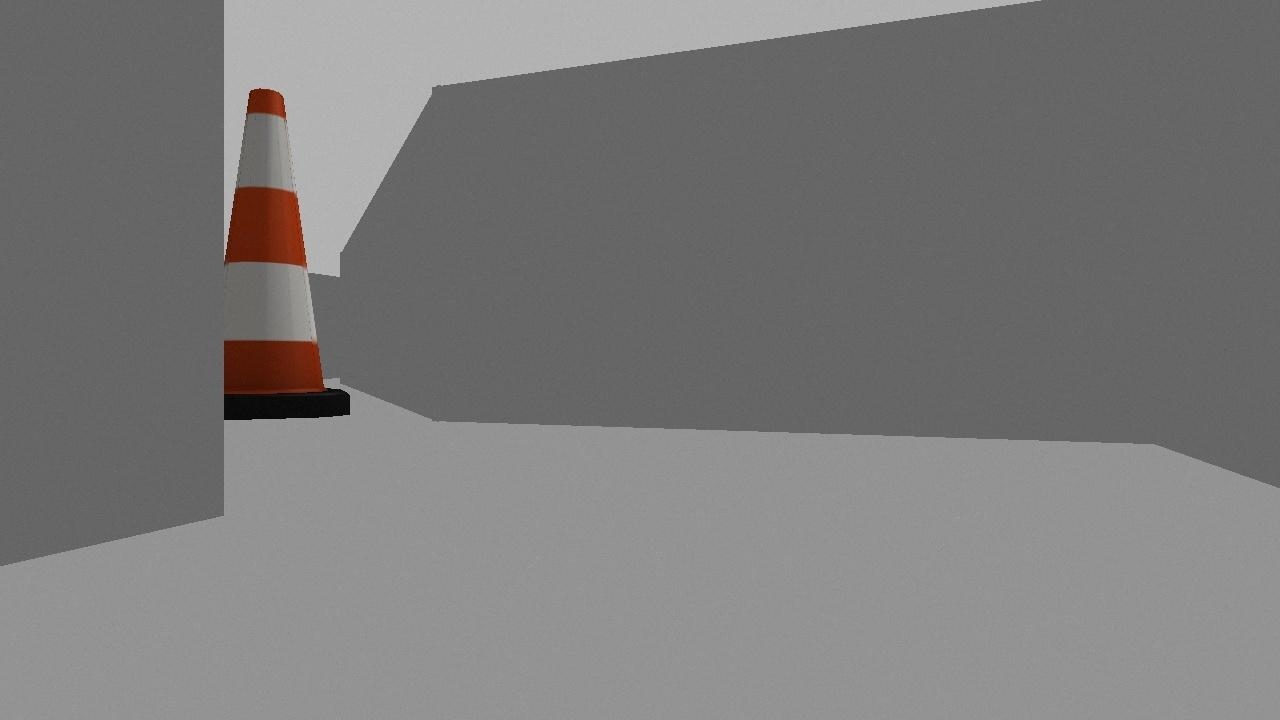cone_barrel: (197, 75, 348, 420)
